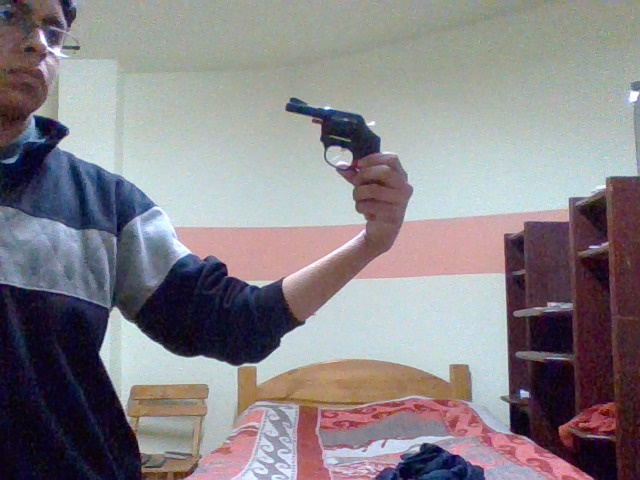pistola: (280, 92, 390, 196)
